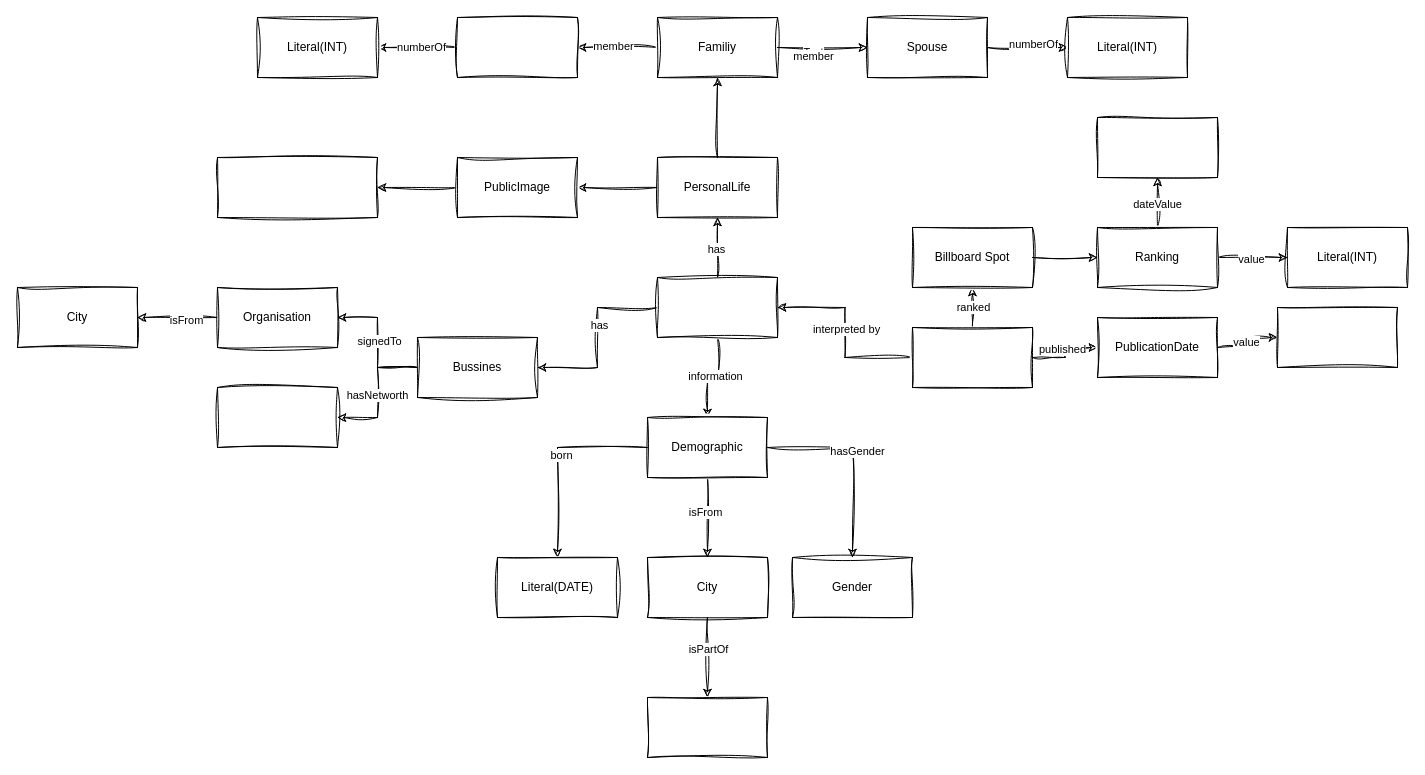
Image size: 1425x775. Some labels were removed from this diagram. The shapes that lost their labels are listed below. From the top down, each one's box as (x1, y1, x2, y2) in pixels, then its label:
(456, 16, 578, 78): Children
(1096, 116, 1218, 178): Litreal(Date)
(216, 156, 378, 218): Literal(INT) can be one of BELOVED,LIKED,CONTROVERSIAL
(656, 276, 778, 338): Arist
(912, 326, 1032, 388): Song
(1276, 306, 1398, 368): Litreral(DATE)
(216, 386, 338, 448): Literal(FLOAT)
(646, 696, 768, 758): Country
